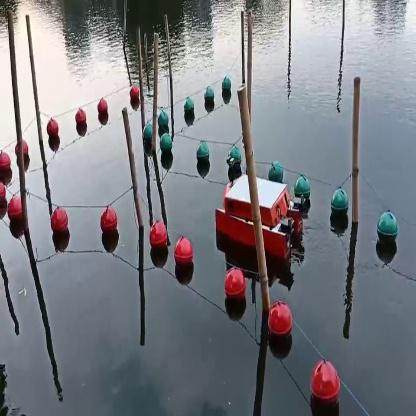green_buoy: (376, 207, 398, 249), (328, 186, 348, 222), (294, 170, 310, 196), (197, 141, 211, 170), (182, 99, 196, 122), (226, 147, 242, 166), (268, 160, 284, 178), (203, 86, 213, 108), (222, 80, 230, 104), (144, 125, 152, 148), (158, 112, 170, 127), (162, 137, 171, 155)
red_buoy: (314, 364, 344, 414), (266, 302, 291, 346), (98, 210, 124, 249), (48, 204, 72, 243), (228, 270, 248, 314), (174, 241, 196, 272), (4, 194, 22, 228), (150, 226, 166, 258), (70, 104, 84, 134), (47, 118, 61, 146), (0, 152, 12, 176), (130, 84, 142, 106), (96, 101, 107, 119)
